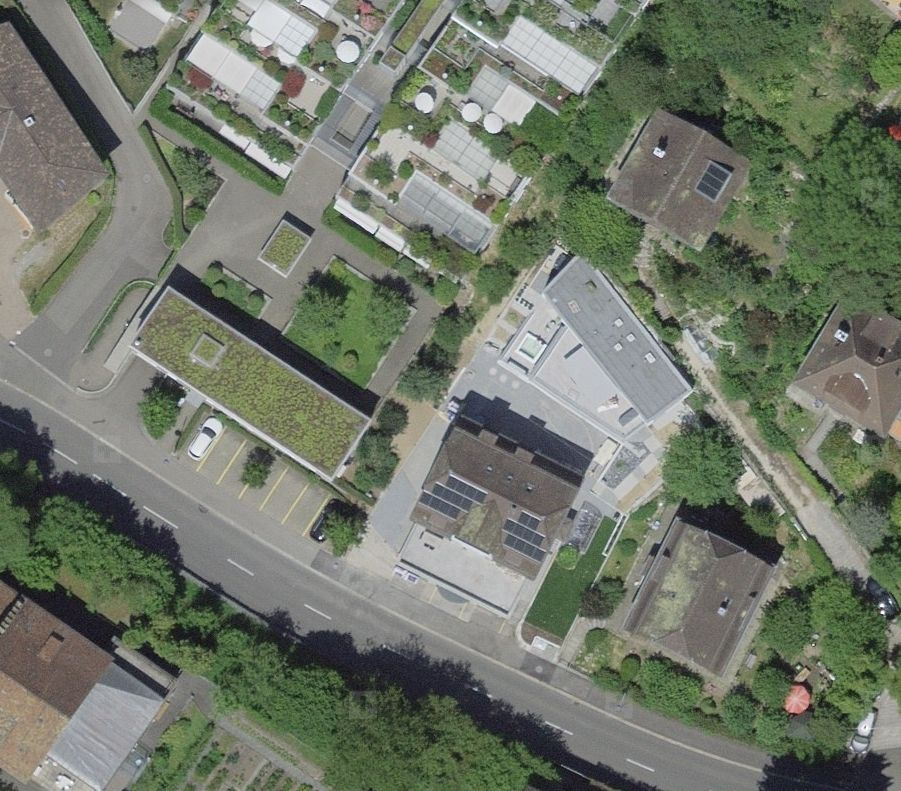solar: (411, 471, 489, 525), (689, 151, 737, 215), (499, 508, 549, 566)
